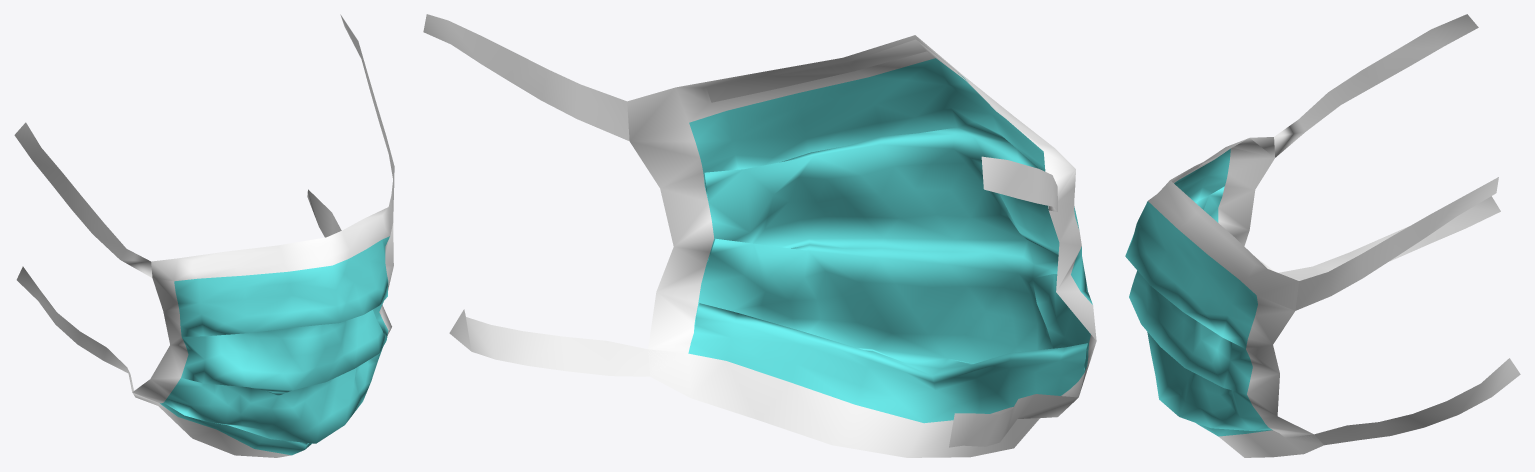
Rendered from mask2.obj.
3 views of the same model, side by side, from view 1: azimuth 30°, elevation 25°; view 2: azimuth 150°, elevation 25°; view 3: azimuth 270°, elevation 25° (orthographic). The views are drawn at different scales.
Visible parts, largest first — view 1: mask; view 2: mask; view 3: mask.
Part boxes in pixels (x1,y1,x2,y2): mask: (14,14,394,457); mask: (423,14,1096,457); mask: (1125,14,1520,457).
Size of the model in its own units: 160 by 143 by 142.
